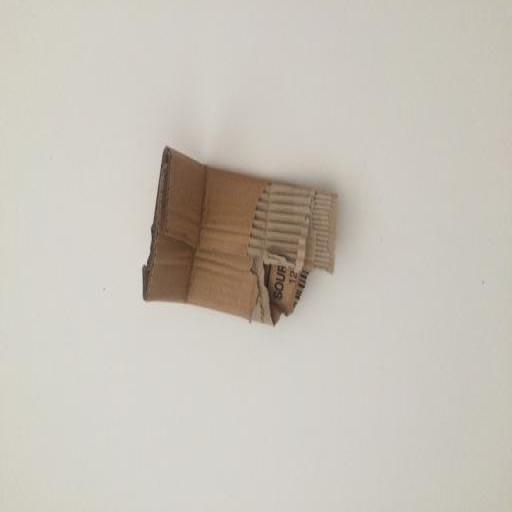waste: (125, 123, 364, 339)
